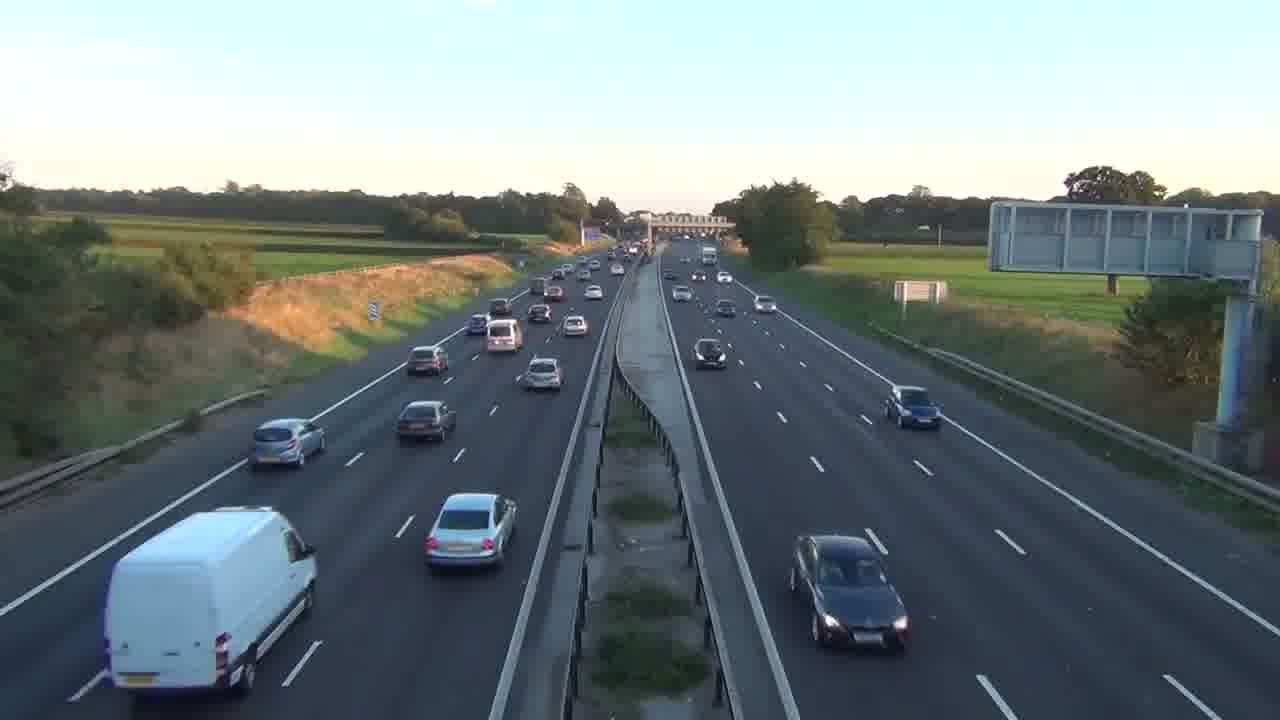car: (788, 528, 913, 655), (423, 492, 519, 572), (248, 416, 326, 469), (883, 385, 942, 431), (396, 399, 456, 443), (405, 344, 450, 377), (524, 356, 563, 391), (693, 337, 728, 370), (557, 313, 591, 338)
truck: (103, 504, 319, 698)
